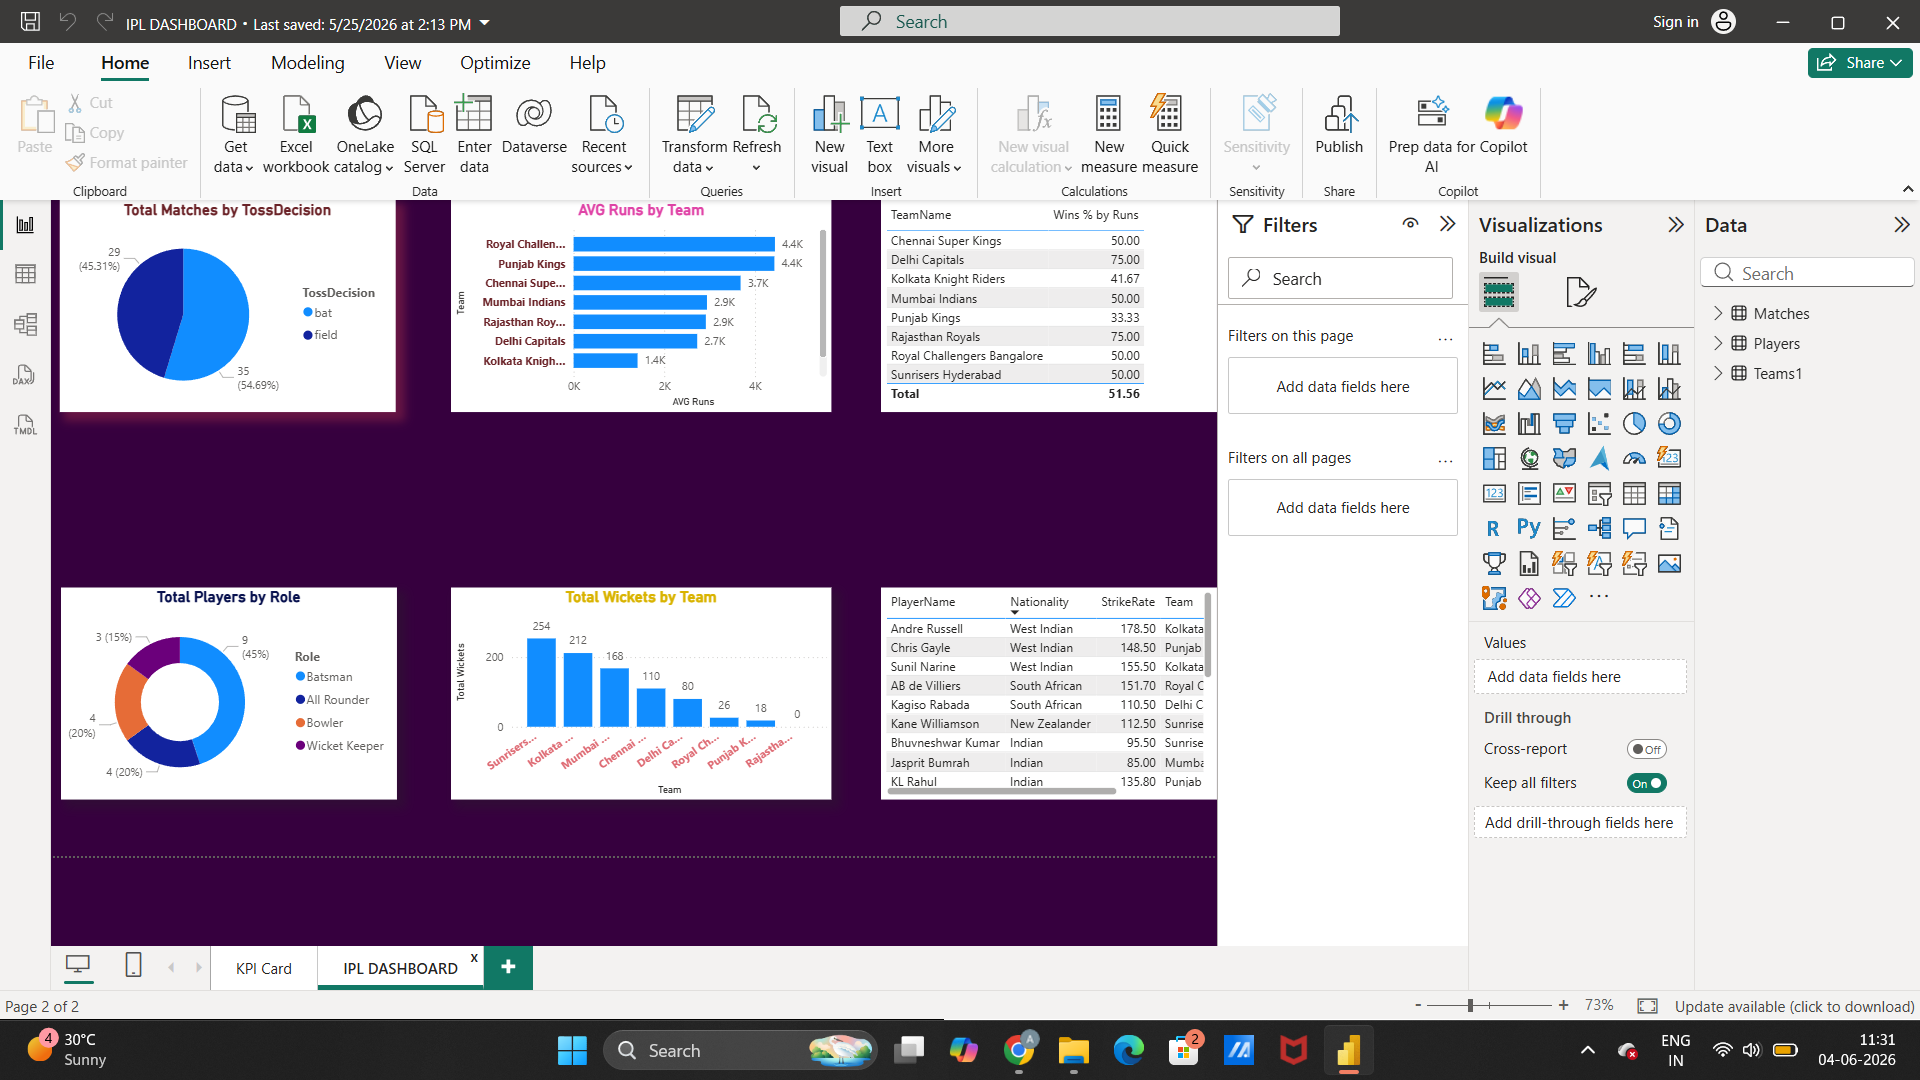

The page's visual inventory and layout, read from the dashboard file:
{"tool":"powerbi","page":{"name":"IPL DASHBOARD","canvas":[1280,720],"ordinal":1},"visuals":[{"type":"pieChart","fields":{"Category":["Matches.TossDecision"],"Y":["Matches.Total Matches"]},"box":[9.6,0,368.5,232.9],"z":0},{"type":"tableEx","fields":{"Values":["Teams1.TeamName","Teams1.Wins % by Runs"]},"box":[911,0,368.5,232.9],"z":1},{"type":"donutChart","fields":{"Category":["Players.Role"],"Y":["Matches.Total Players"]},"box":[11,426,368.5,232.9],"z":3},{"type":"tableEx","fields":{"Values":["Players.PlayerName","Players.Nationality","Players.StrikeRate","Players.Team"]},"box":[911,426,368.5,232.9],"z":4},{"type":"clusteredBarChart","fields":{"Y":["Matches.AVG Runs"],"Category":["Players.Team"]},"box":[439.7,0,417.8,232.9],"z":5},{"type":"clusteredColumnChart","fields":{"Category":["Players.Team"],"Y":["Matches.Total Wickets"]},"box":[439.7,426,417.8,232.9],"z":6}]}

Visuals, with their boxes on the page's 1280x720 design canvas (x1, y1, x2, y2). These are canvas units, not pixel positions in the 1920x1080 screenshot, which may show the page scaled, cropped or inside an application window:
pieChart - Matches.TossDecision x Matches.Total Matches: (10, 0, 378, 233)
tableEx - Teams1.TeamName x Teams1.Wins % by Runs: (911, 0, 1280, 233)
donutChart - Players.Role x Matches.Total Players: (11, 426, 380, 659)
tableEx - Players.PlayerName x Players.Nationality: (911, 426, 1280, 659)
clusteredBarChart - Matches.AVG Runs x Players.Team: (440, 0, 858, 233)
clusteredColumnChart - Players.Team x Matches.Total Wickets: (440, 426, 858, 659)
